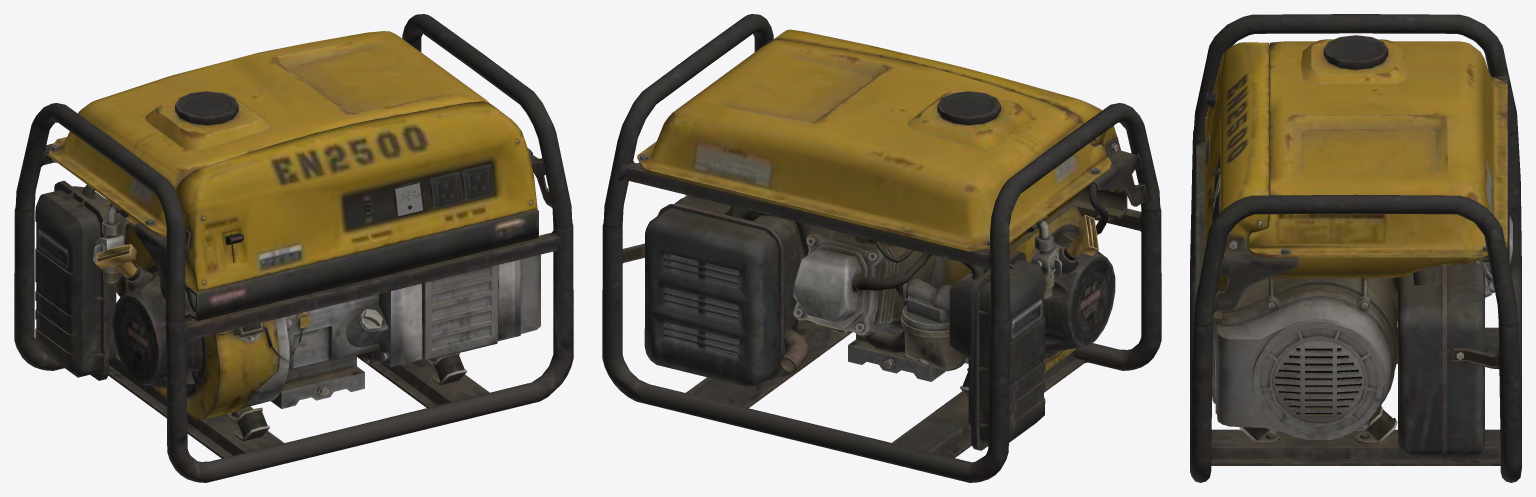
File: portable_generator.glb
3 renders of one model, left to right at view 1: azimuth 30°, elevation 25°; view 2: azimuth 150°, elevation 25°; view 3: azimuth 270°, elevation 25°, orthographic.
Parts seen in each view (by area): view 1: portable_generator; view 2: portable_generator; view 3: portable_generator.
Part boxes in pixels (x1,y1,x2,y2): portable_generator: [14, 14, 573, 482]; portable_generator: [602, 14, 1161, 482]; portable_generator: [1190, 14, 1521, 482].
Size of the model in its own units: 0.8169 by 0.5752 by 0.564.
Materials: 2 (2 with a texture image).
